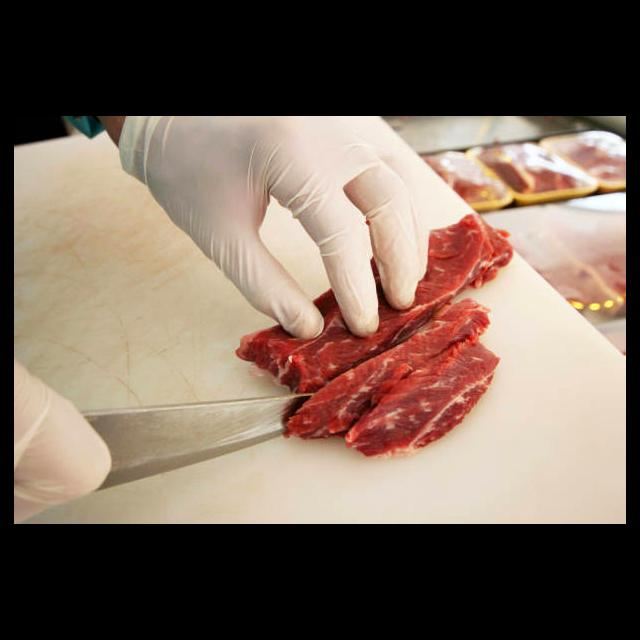beef: (235, 213, 511, 457)
